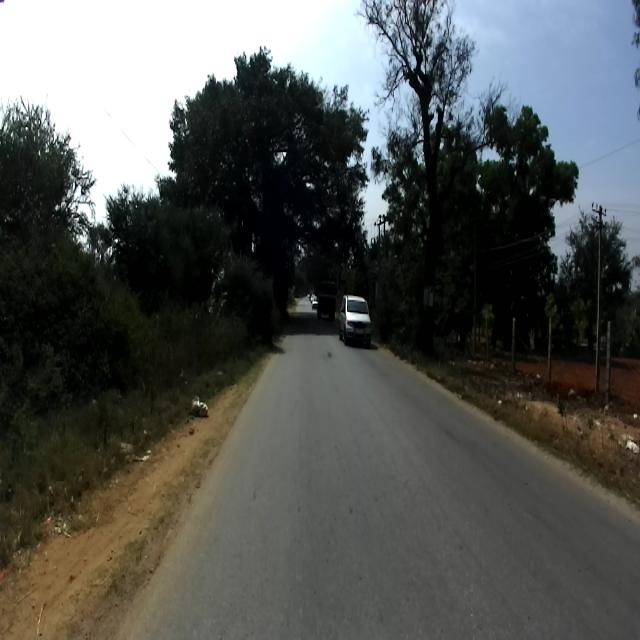car ahead at: (338, 289, 374, 345)
